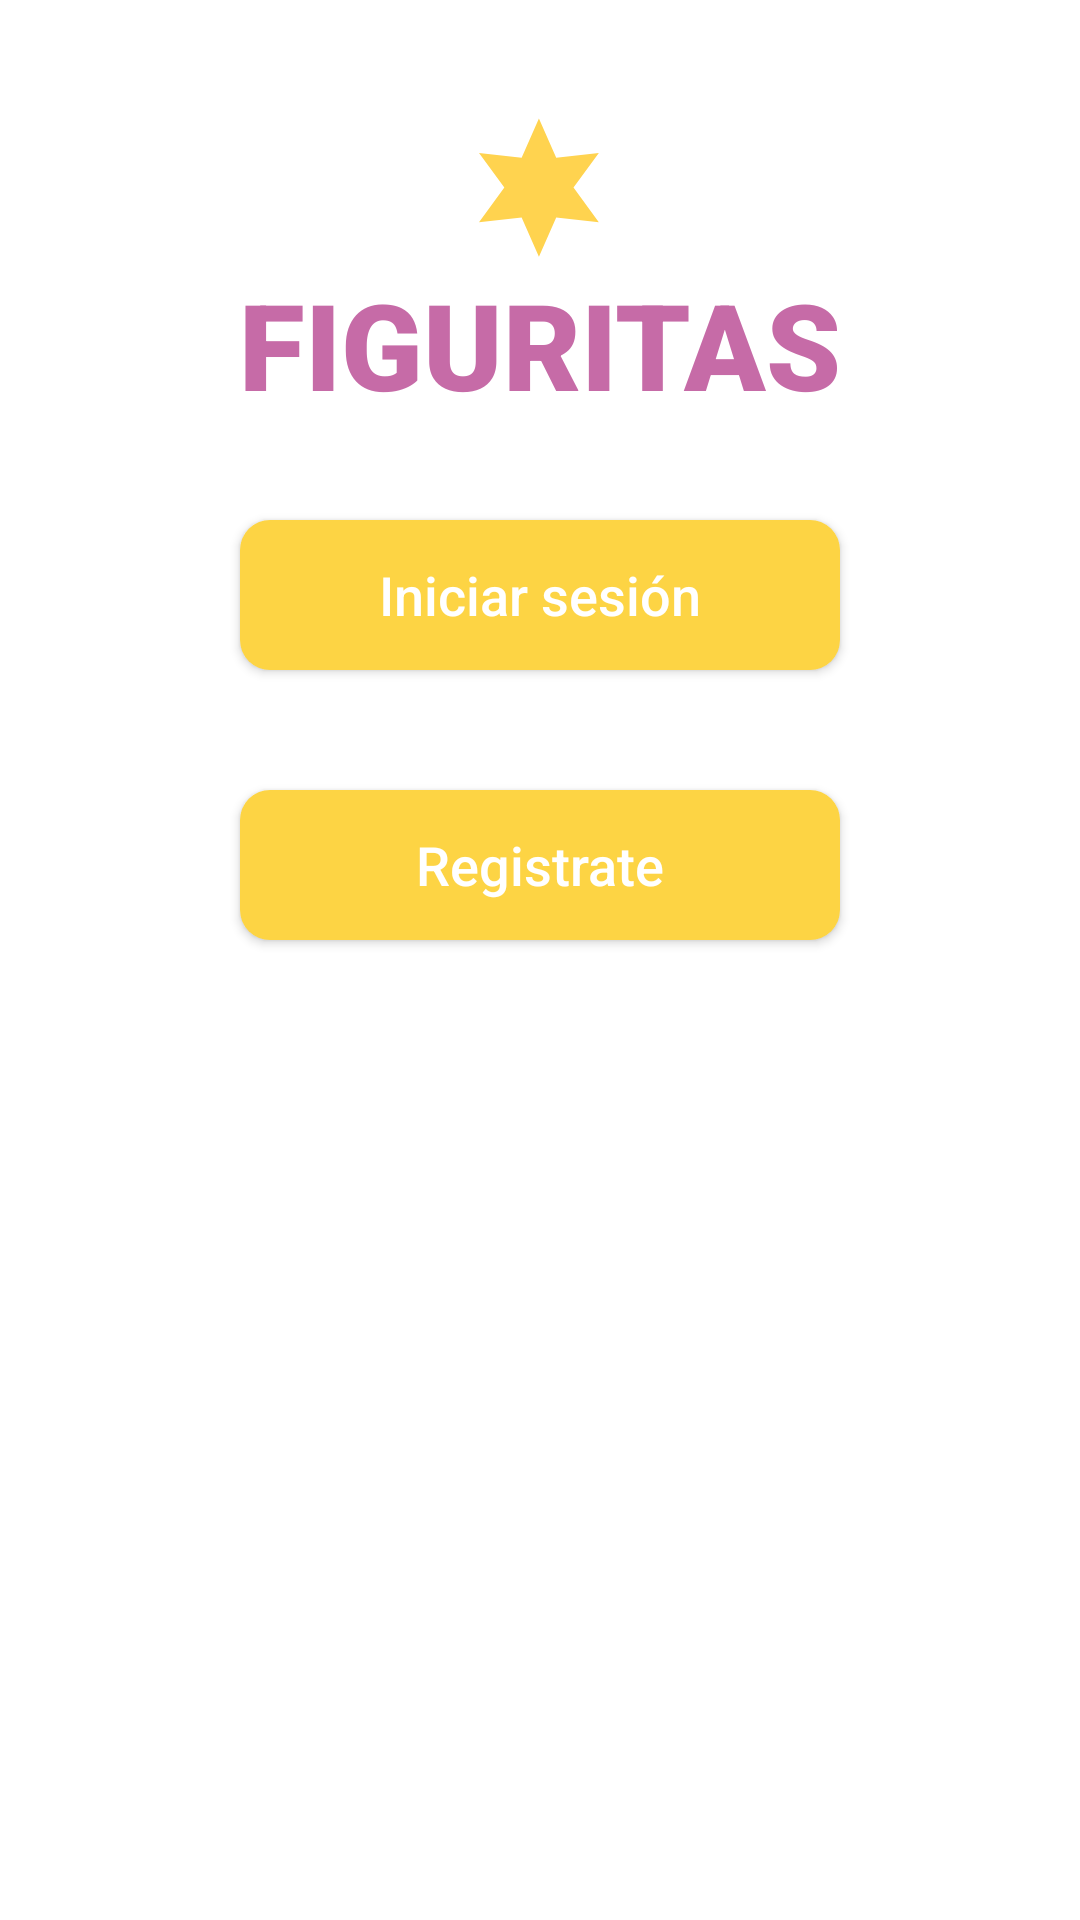

Screen size 1080 x 1920. Icon name, then its box in pixels as (x1, y1, x2, y2):
star backgroud: (479, 119, 599, 257)
